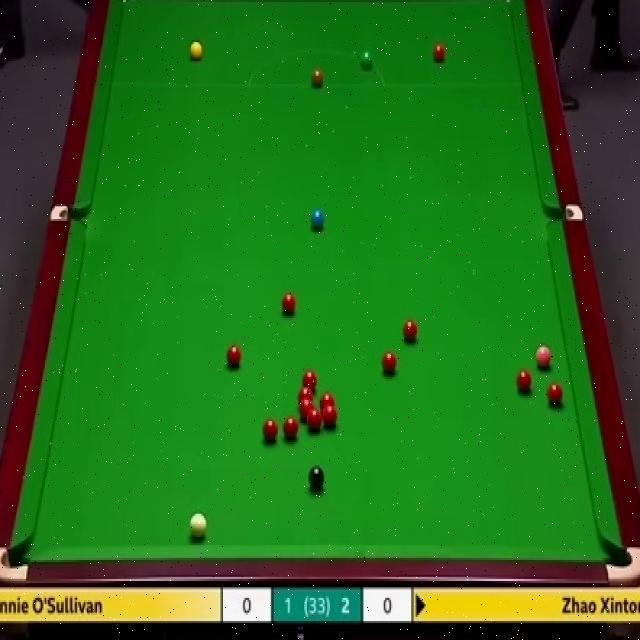black-ball: (308, 464, 325, 492)
blue-ball: (310, 208, 324, 228)
brown-ball: (310, 70, 324, 86)
green-ball: (359, 50, 373, 70)
pink-ball: (534, 345, 554, 371)
red-ball: (515, 367, 534, 394), (280, 294, 300, 318), (546, 380, 563, 404), (322, 406, 340, 428), (307, 408, 322, 434), (263, 418, 279, 441), (380, 352, 396, 374), (226, 345, 241, 367), (284, 416, 298, 439), (298, 402, 313, 421), (320, 392, 335, 411), (432, 42, 446, 62), (404, 321, 417, 342), (304, 370, 315, 392), (299, 390, 312, 408)
white-ball: (188, 512, 208, 542)
yellow-ball: (189, 40, 202, 62)
